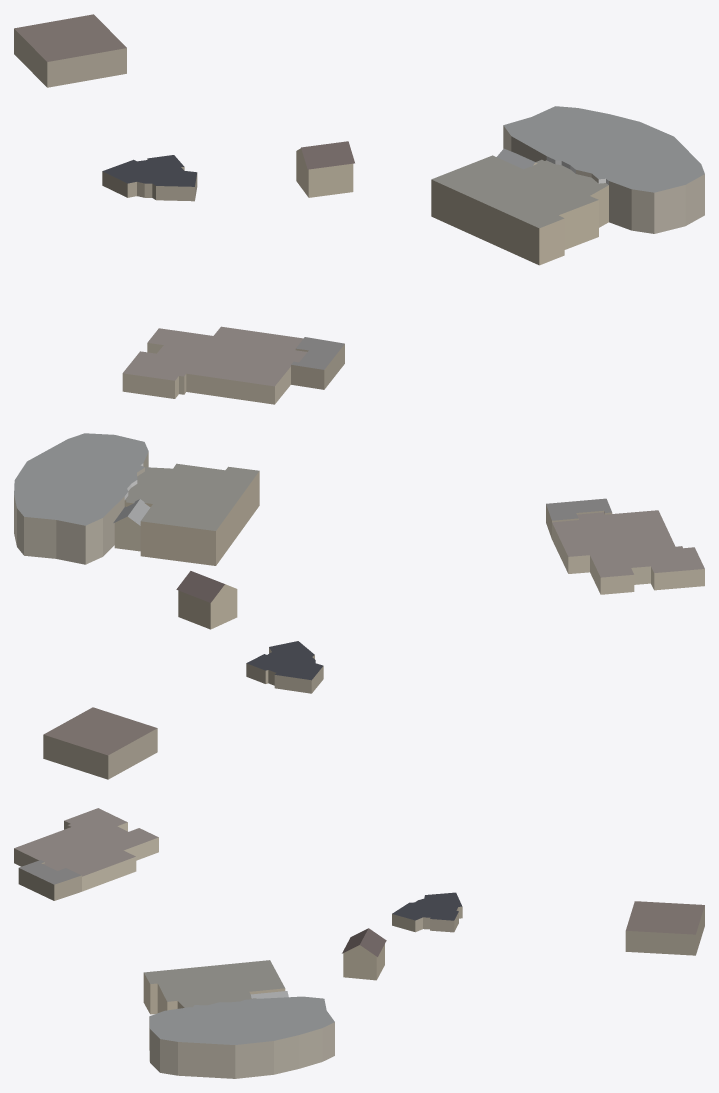
3 views of the same model, one above another, from view 1: azimuth 30°, elevation 25°; view 2: azimuth 150°, elevation 25°; view 3: azimuth 270°, elevation 25° (orthographic). The views are drawn at different scales.
Parts seen in each view (by area): view 1: tuile; view 2: tuile; view 3: tuile.
Part boxes in pixels (x1,y1,x2,y2): tuile: (14, 14, 704, 404); tuile: (14, 433, 704, 779); tuile: (14, 808, 704, 1078).
Size of the model in its own units: 158 by 10.05 by 182.
